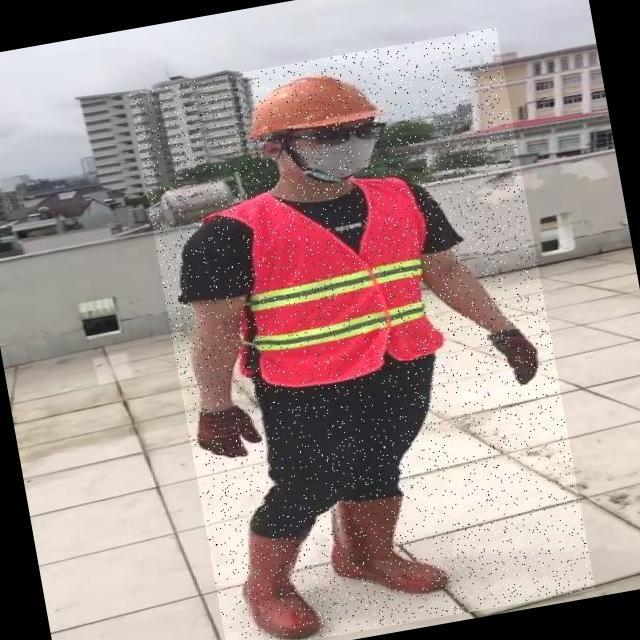Gloves: (194, 403, 269, 463), (488, 325, 546, 391)
Helmet: (235, 56, 387, 144)
Human: (129, 27, 596, 640)
Safety Boot: (323, 480, 454, 607), (233, 520, 329, 640)
Safety Vest: (220, 167, 453, 394)
